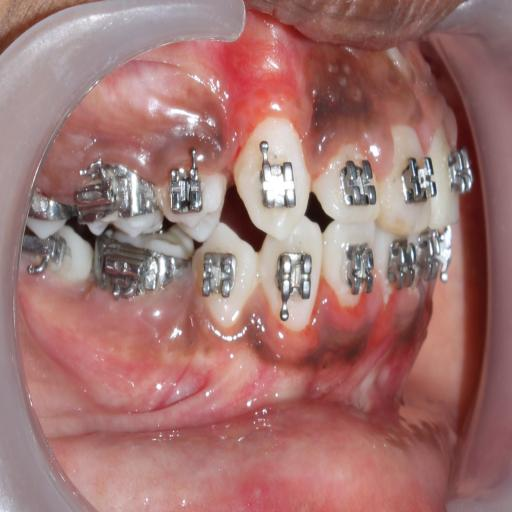correct_brace: (150, 139, 228, 237), (393, 151, 439, 208), (254, 157, 299, 210), (338, 155, 377, 211)
incorrect_brace: (313, 142, 381, 230), (167, 167, 204, 217)
